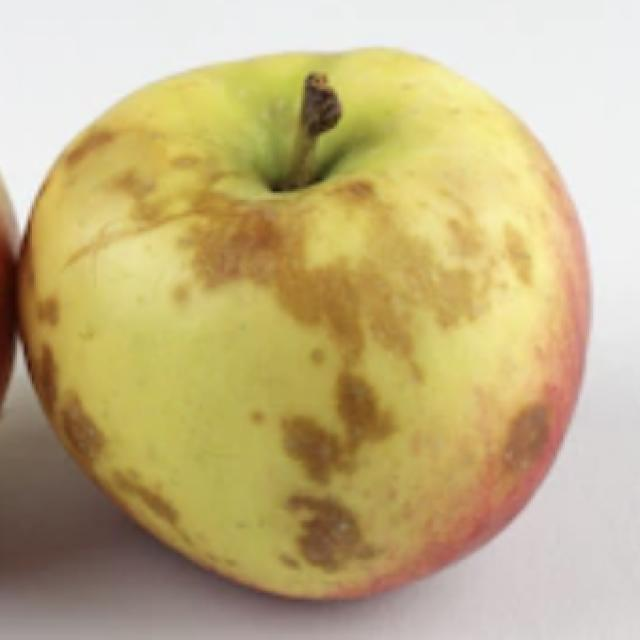rotten_apple: (21, 48, 591, 609)
